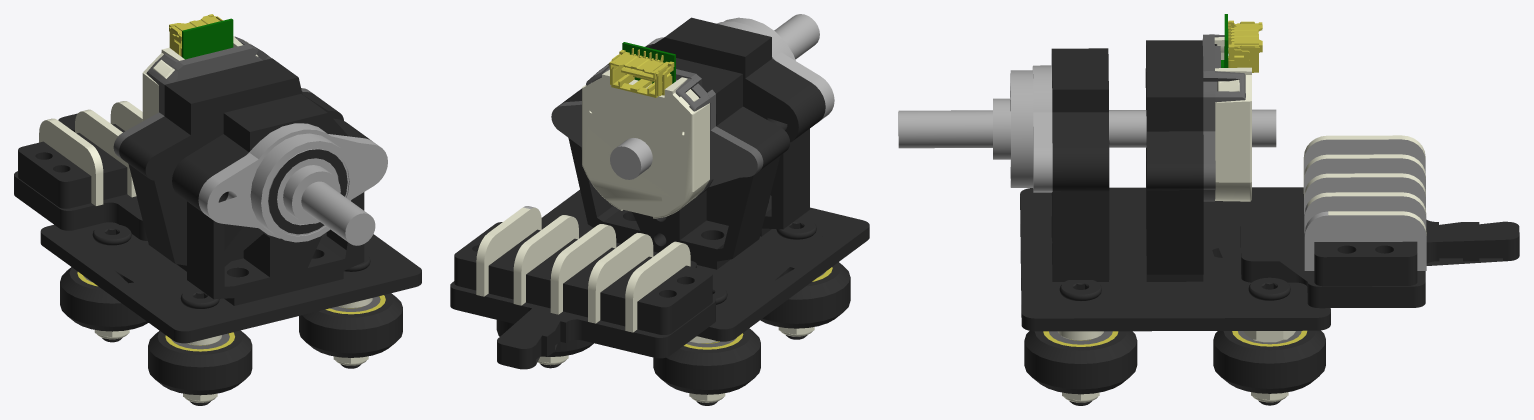
The model's file is inverted_pendulum_cart.fbx.
3 renders of one model, left to right at view 1: azimuth 30°, elevation 25°; view 2: azimuth 150°, elevation 25°; view 3: azimuth 270°, elevation 25°, orthographic. The views are drawn at different scales.
Parts seen in each view (by area): view 1: Cart; view 2: Cart; view 3: Cart.
Boxes of the visible parts, x1,y1,x2,y2 form: Cart: [14, 14, 421, 405]; Cart: [450, 14, 869, 405]; Cart: [898, 14, 1519, 405].
Size of the model in its own units: 6.58 by 7.82 by 13.15.
